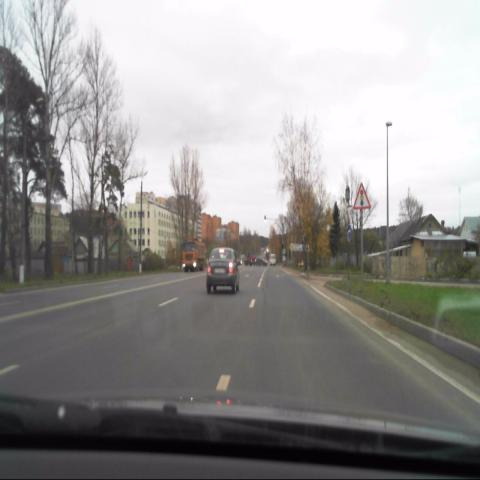1_8: (353, 184, 370, 210)
